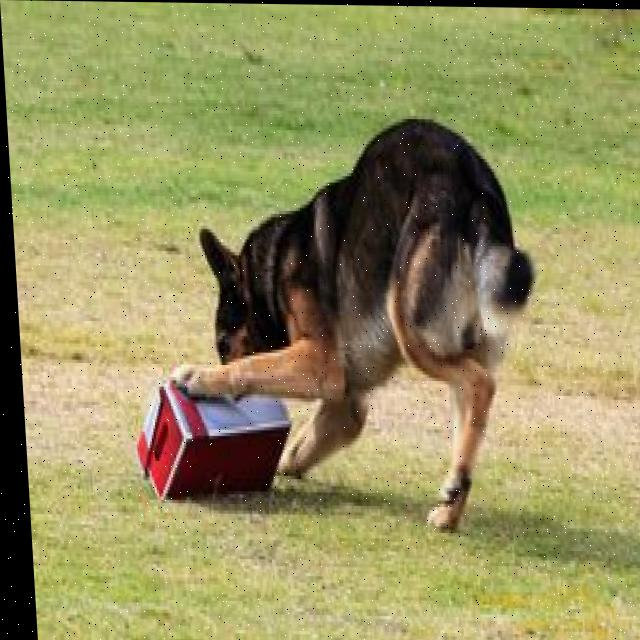GERMAN_SHEPHERD: (143, 105, 553, 568)
